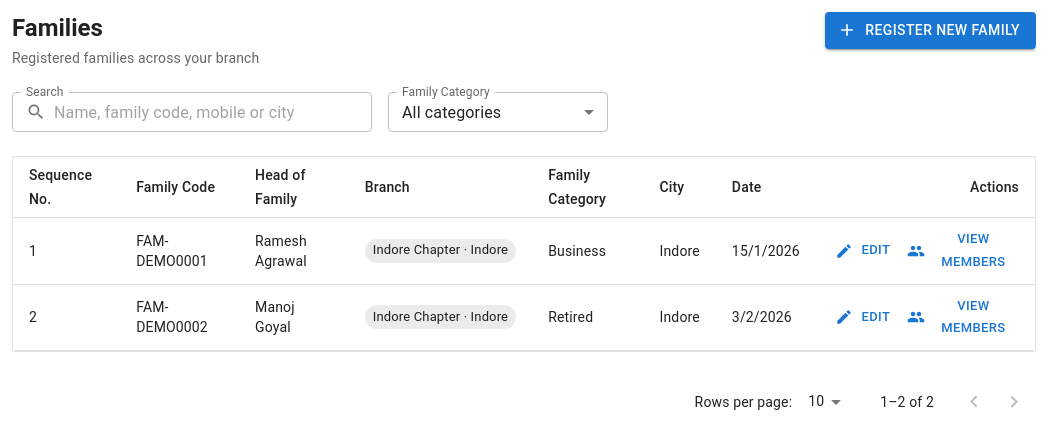
Test: FamiliesListPage › filters the list by the search box
Expected: the text "Ramesh Agrawal" is shown, [239,218,349,284]
Type "Goyal" into the field labelled "Search" at (213, 112), box [54,92,372,132]
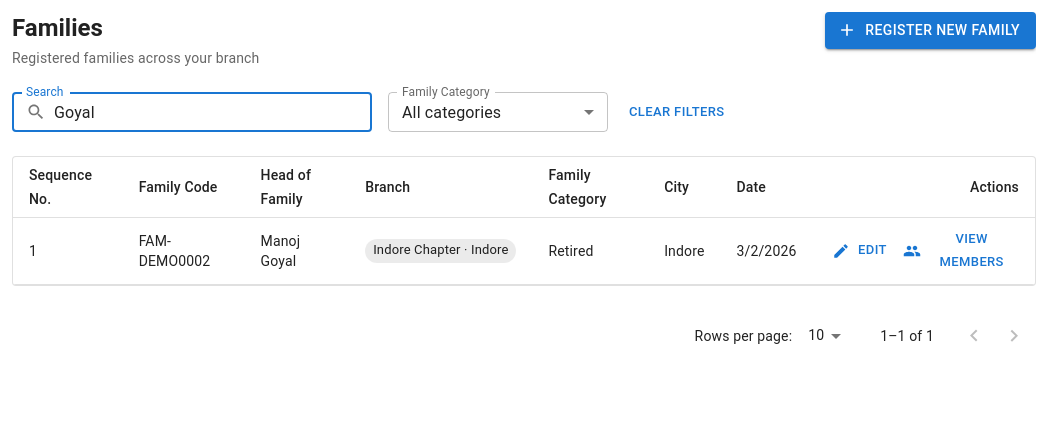
Expected: the text "Manoj Goyal" is shown, [245,218,349,284]
Expected: the text "Ramesh Agrawal" is gone
